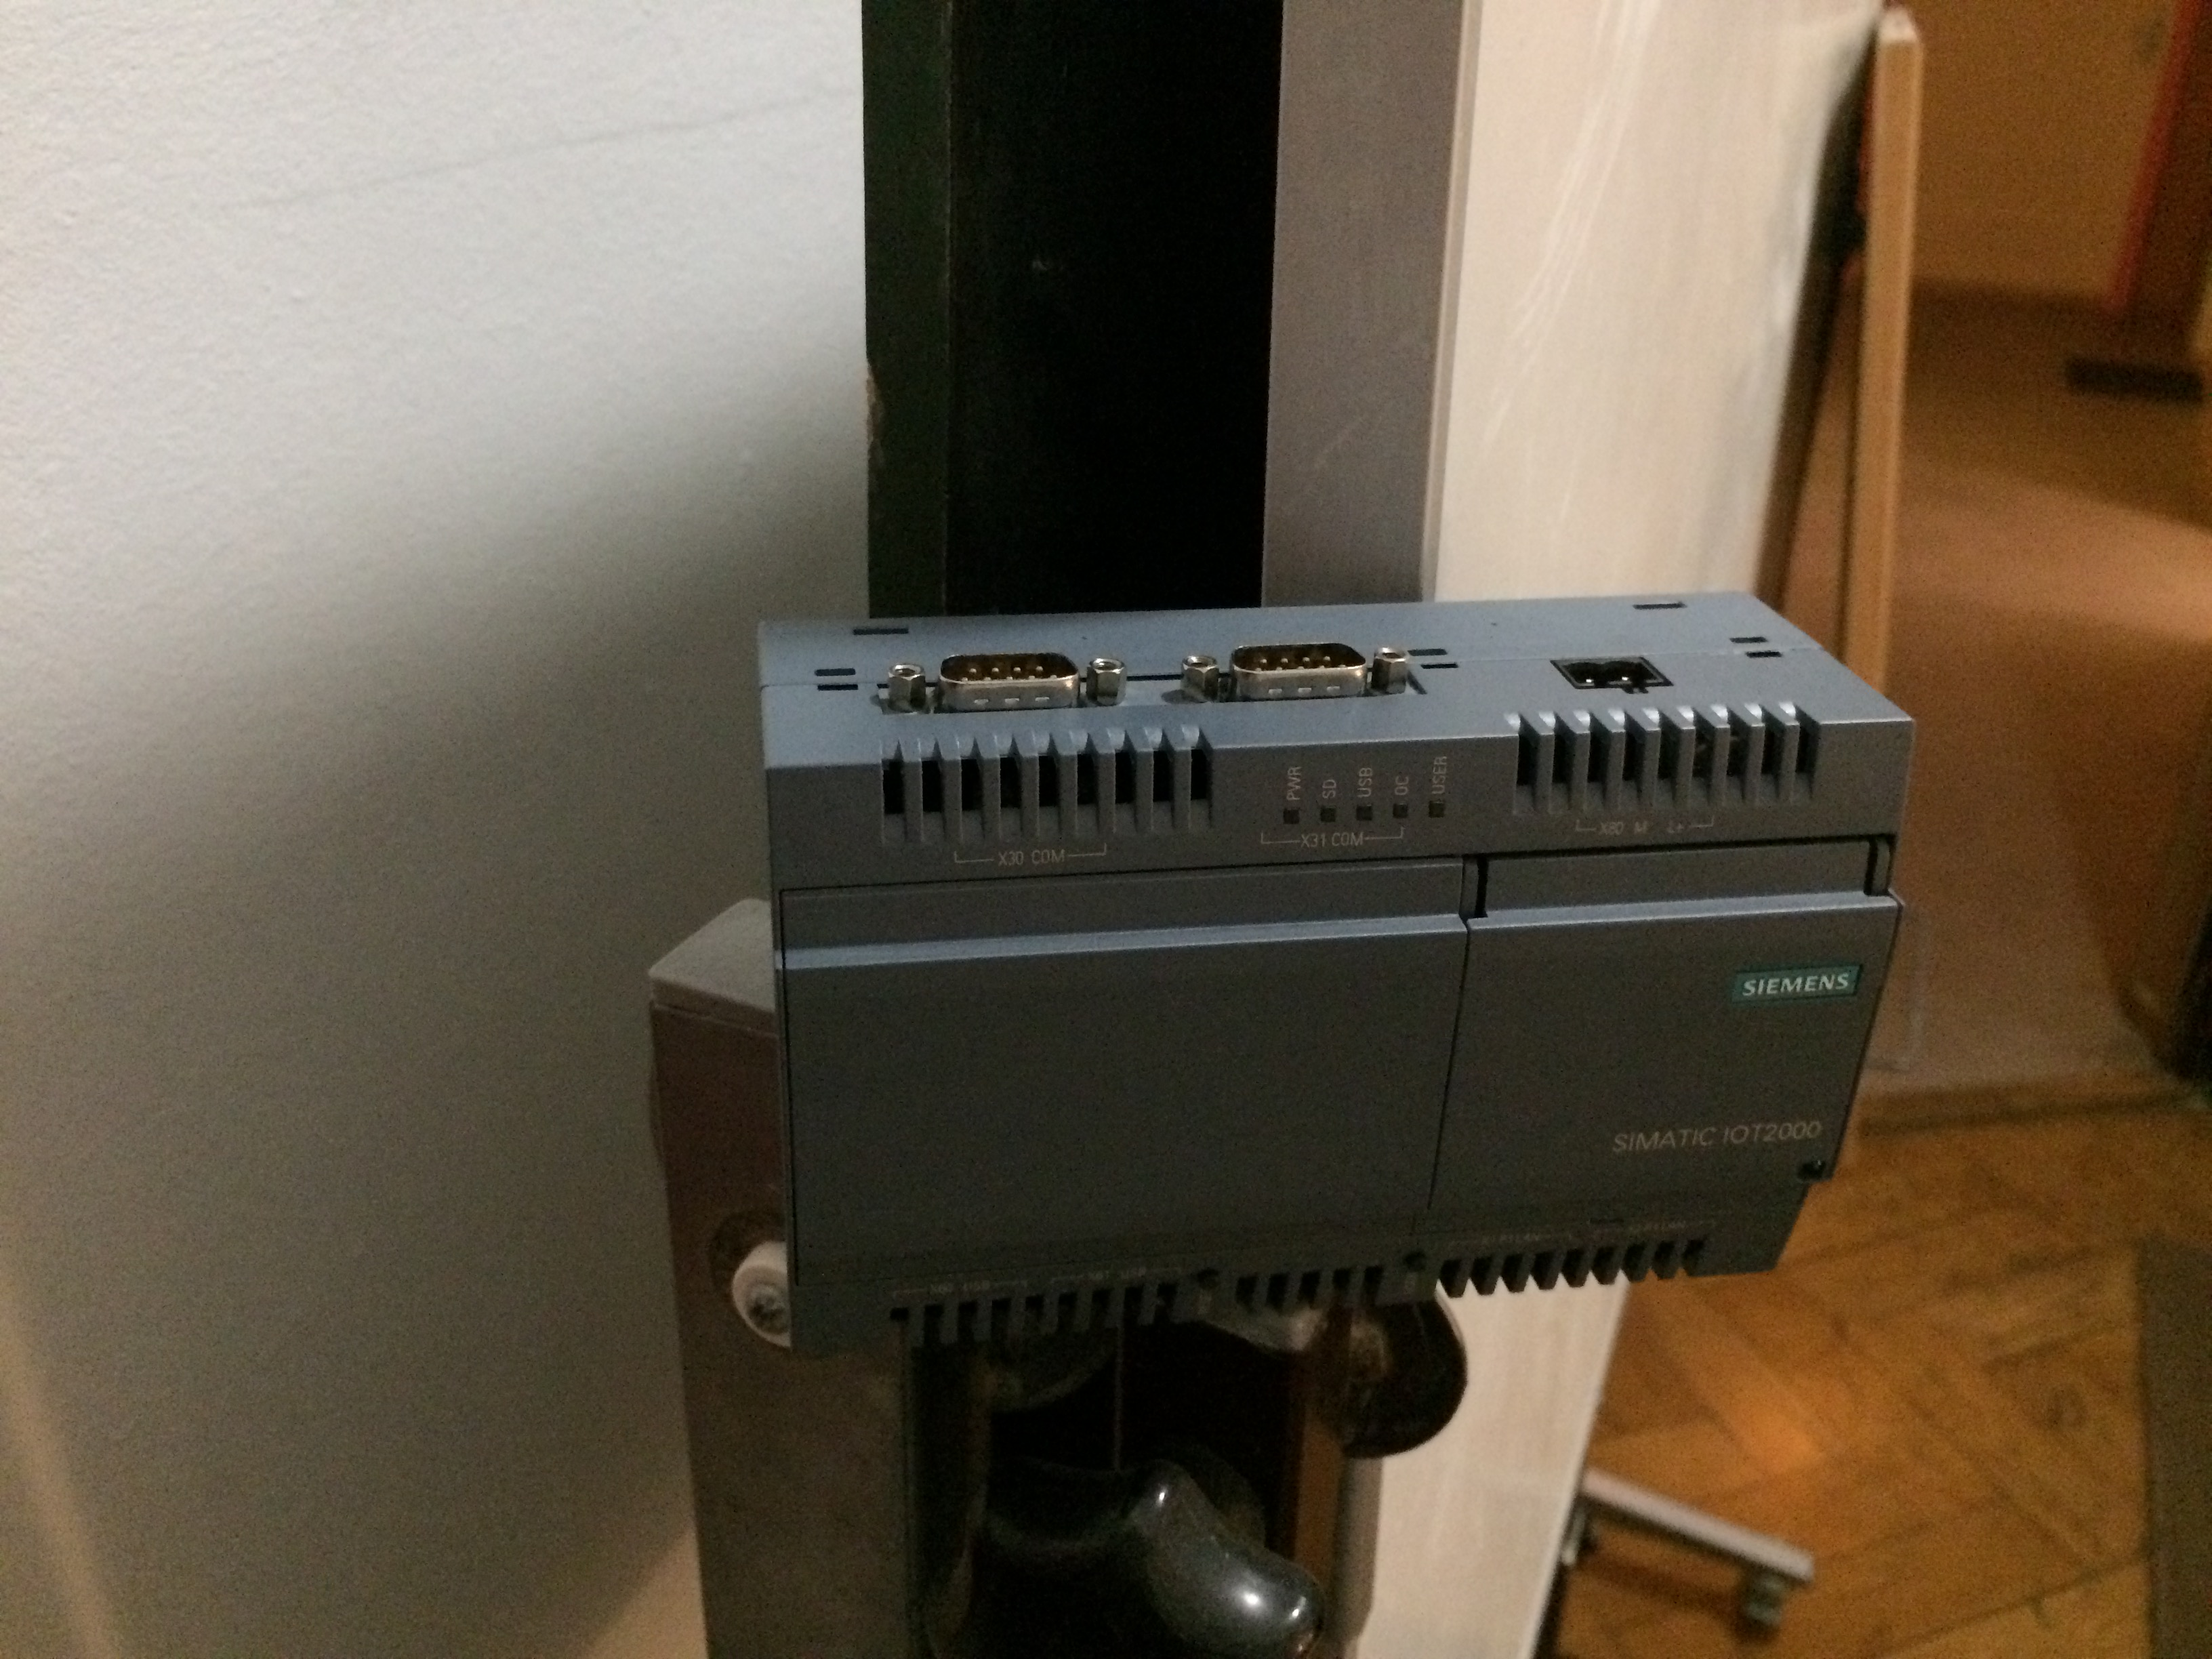iot2000: (749, 586, 1921, 1364)
